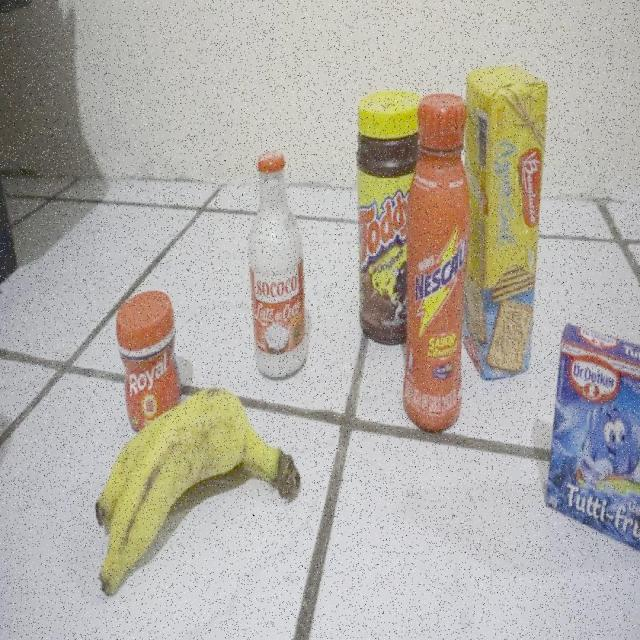Banana: (55, 392, 298, 588)
ChocolateMilk: (409, 98, 466, 420)
ChocolatePowder: (351, 87, 409, 334)
CoconutMilk: (252, 141, 313, 380)
Cracker: (467, 66, 546, 392)
Gelatine: (544, 326, 640, 582)
Yeast: (119, 298, 180, 410)
